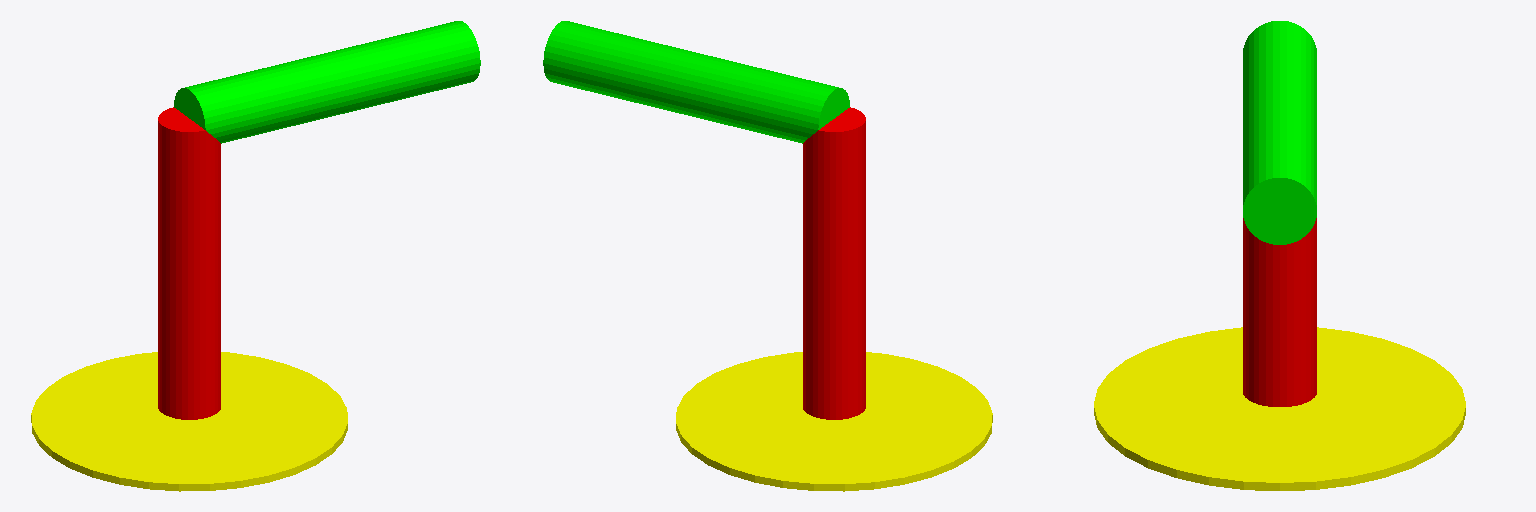
The robot description file, URDF, robot "pan_tilt":
<?xml version="1.0"?>
<robot name="pan_tilt">

    <link name="base_link">
        <visual>
            <geometry>
                <cylinder length="0.01" radius="0.2"/>
            </geometry>
            <origin rpy="0 0 0" xyz="0 0 0" />
            <material name="yellow">
                <color rgba="1 1 0 1" />
            </material>
        </visual>

        <collision>
            <geometry>
                <cylinder length="0.01" radius="0.2"/>
            </geometry>
            <origin rpy="0 0 0" xyz="0 0 0" />
        </collision>
    </link>

    <link name="pan_link">
        <visual>
            <geometry>
                <cylinder length="0.4" radius="0.04"/>
            </geometry>
            <origin rpy="0 0 0" xyz="0 0 0.2" />
            <material name="red">
                <color rgba="1 0 0 1" />
            </material>
        </visual>
    </link>

    <joint name="pan_joint" type="revolute">
        <parent link="base_link" />
        <child link="pan_link"/>
        <limit effort="300" velocity="0.1" lower="-3.1416" upper="3.1416"/>
        <axis xyz="0 0 1"/>
        <origin rpy="0 0 0" xyz="0 0 0.02" />
    </joint>

    <link name="tilt_link">
        <visual>
            <geometry>
                <cylinder length="0.4" radius="0.04"/>
            </geometry>
            <origin rpy="0 1.57 0" xyz="0.2 0 0" />
            <material name="green">
                <color rgba="0 1 0 1" />
            </material>
        </visual>
    </link>

    <joint name="tilt_joint" type="revolute">
        <parent link="pan_link" />
        <child link="tilt_link"/>
        <limit effort="300" velocity="0.1" lower="-3.1416" upper="3.1416"/>
        <axis xyz="0 1 0"/>
        <origin rpy="0 0 0" xyz="0 0 0.4" />
    </joint>

</robot>

--- Render facts (derived) ---
3 views of the same robot in one strip: view 1: azimuth 30°, elevation 25°; view 2: azimuth 150°, elevation 25°; view 3: azimuth 270°, elevation 25° (orthographic).
Model pan_tilt with 3 links and 2 joints (2 revolute), rooted at base_link, posed all joints at 0.
Visible links, largest first — view 1: base_link, pan_link, tilt_link; view 2: base_link, pan_link, tilt_link; view 3: base_link, tilt_link, pan_link.
Boxes of the visible links, x1,y1,x2,y2 form: base_link: [31, 352, 347, 491]; pan_link: [158, 107, 220, 419]; tilt_link: [174, 21, 480, 143]; base_link: [676, 352, 992, 491]; pan_link: [803, 107, 865, 419]; tilt_link: [543, 21, 849, 143]; base_link: [1094, 327, 1465, 490]; tilt_link: [1243, 21, 1316, 244]; pan_link: [1243, 218, 1316, 406].
Size in the robot's own frame: 0.6 by 0.4 by 0.4652 metres.
Geometry: primitives only (box / cylinder / sphere), no mesh files.